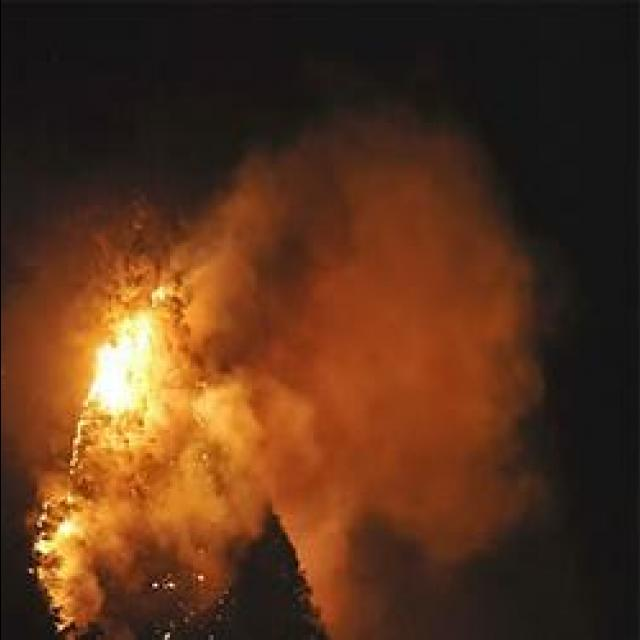fire: (89, 308, 156, 412), (34, 517, 78, 551)
smoke: (298, 220, 533, 372), (366, 353, 542, 551), (284, 109, 496, 248), (185, 364, 336, 508), (0, 264, 85, 456), (308, 502, 392, 640), (127, 494, 250, 548), (84, 498, 137, 562)
